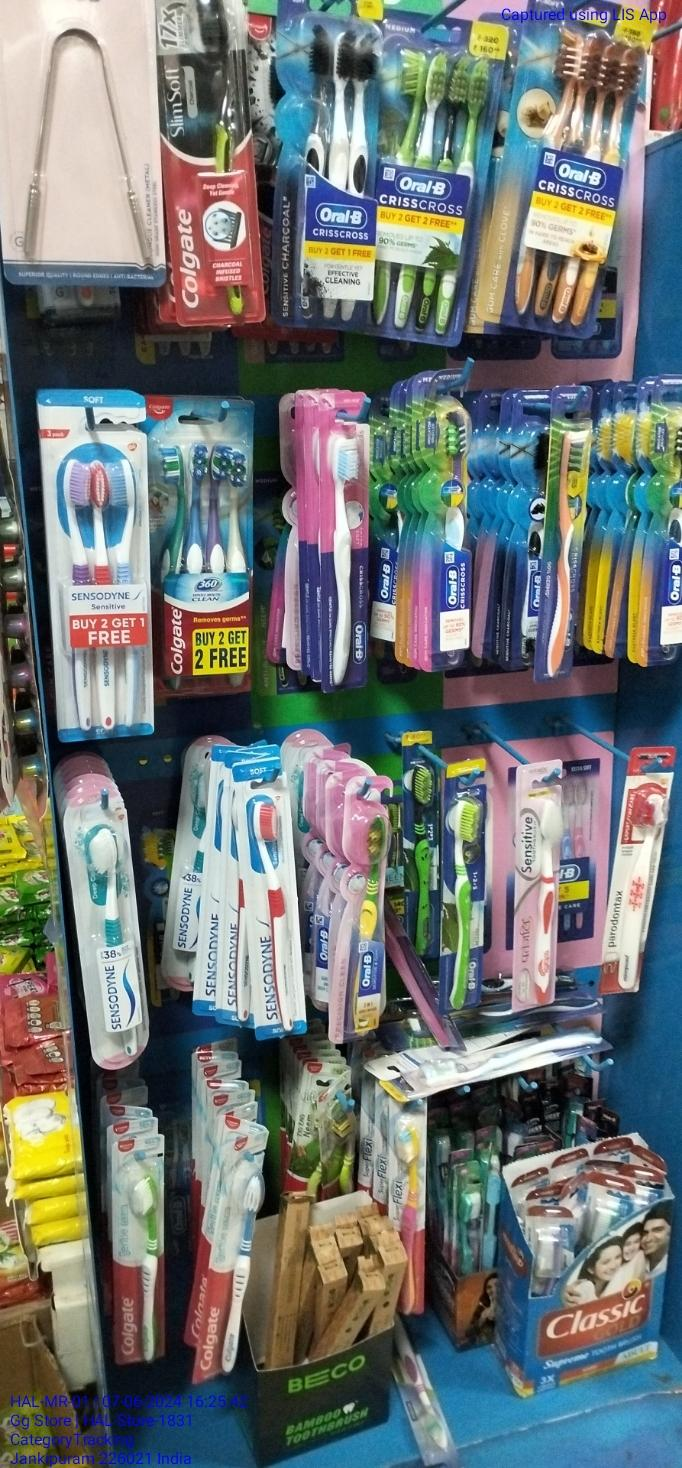9: (407, 372, 475, 660)
soap: (160, 1, 261, 318)
